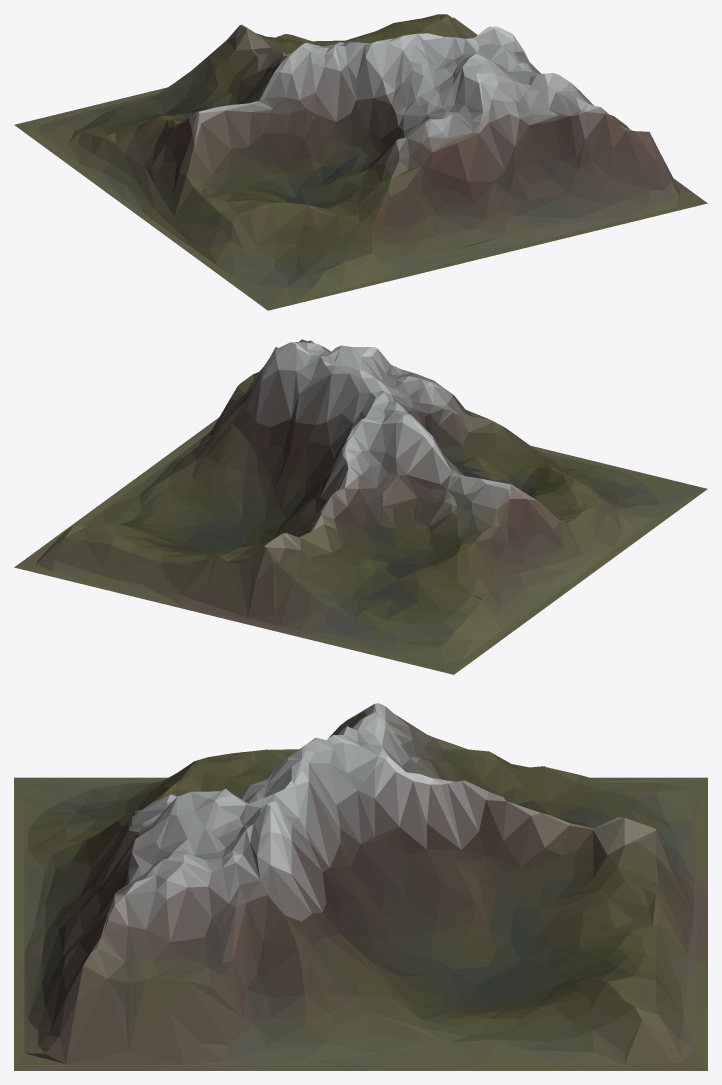
Rendered from Sylvan-Snow_B.fbx.
The picture shows the model from 3 angles, top to bottom: view 1: azimuth 30°, elevation 25°; view 2: azimuth 150°, elevation 25°; view 3: azimuth 270°, elevation 25°; orthographic projection. The views are drawn at different scales.
Visible parts, largest first — view 1: Sylvan-Snow_B; view 2: Sylvan-Snow_B; view 3: Sylvan-Snow_B.
Part boxes in pixels (x1,y1,x2,y2): Sylvan-Snow_B: (14,14,707,310); Sylvan-Snow_B: (14,339,707,674); Sylvan-Snow_B: (14,703,707,1070).
Size of the model in its own units: 10000 by 2995 by 10000.
